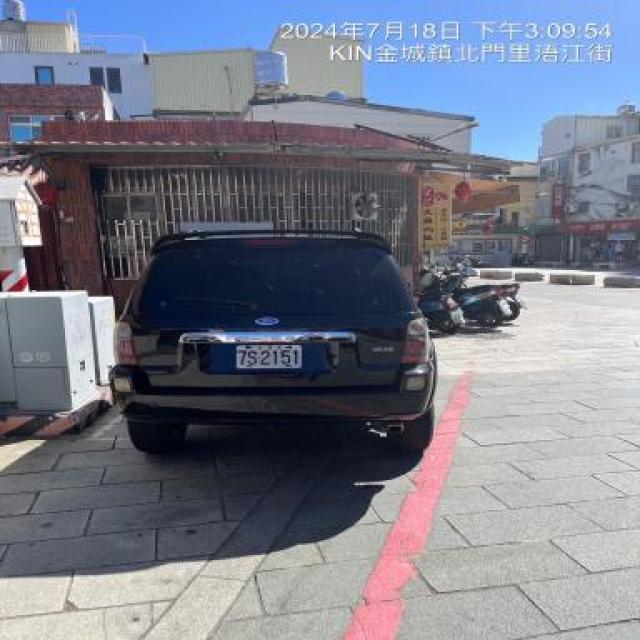Legalparking: (106, 184, 454, 516), (420, 244, 540, 354)
